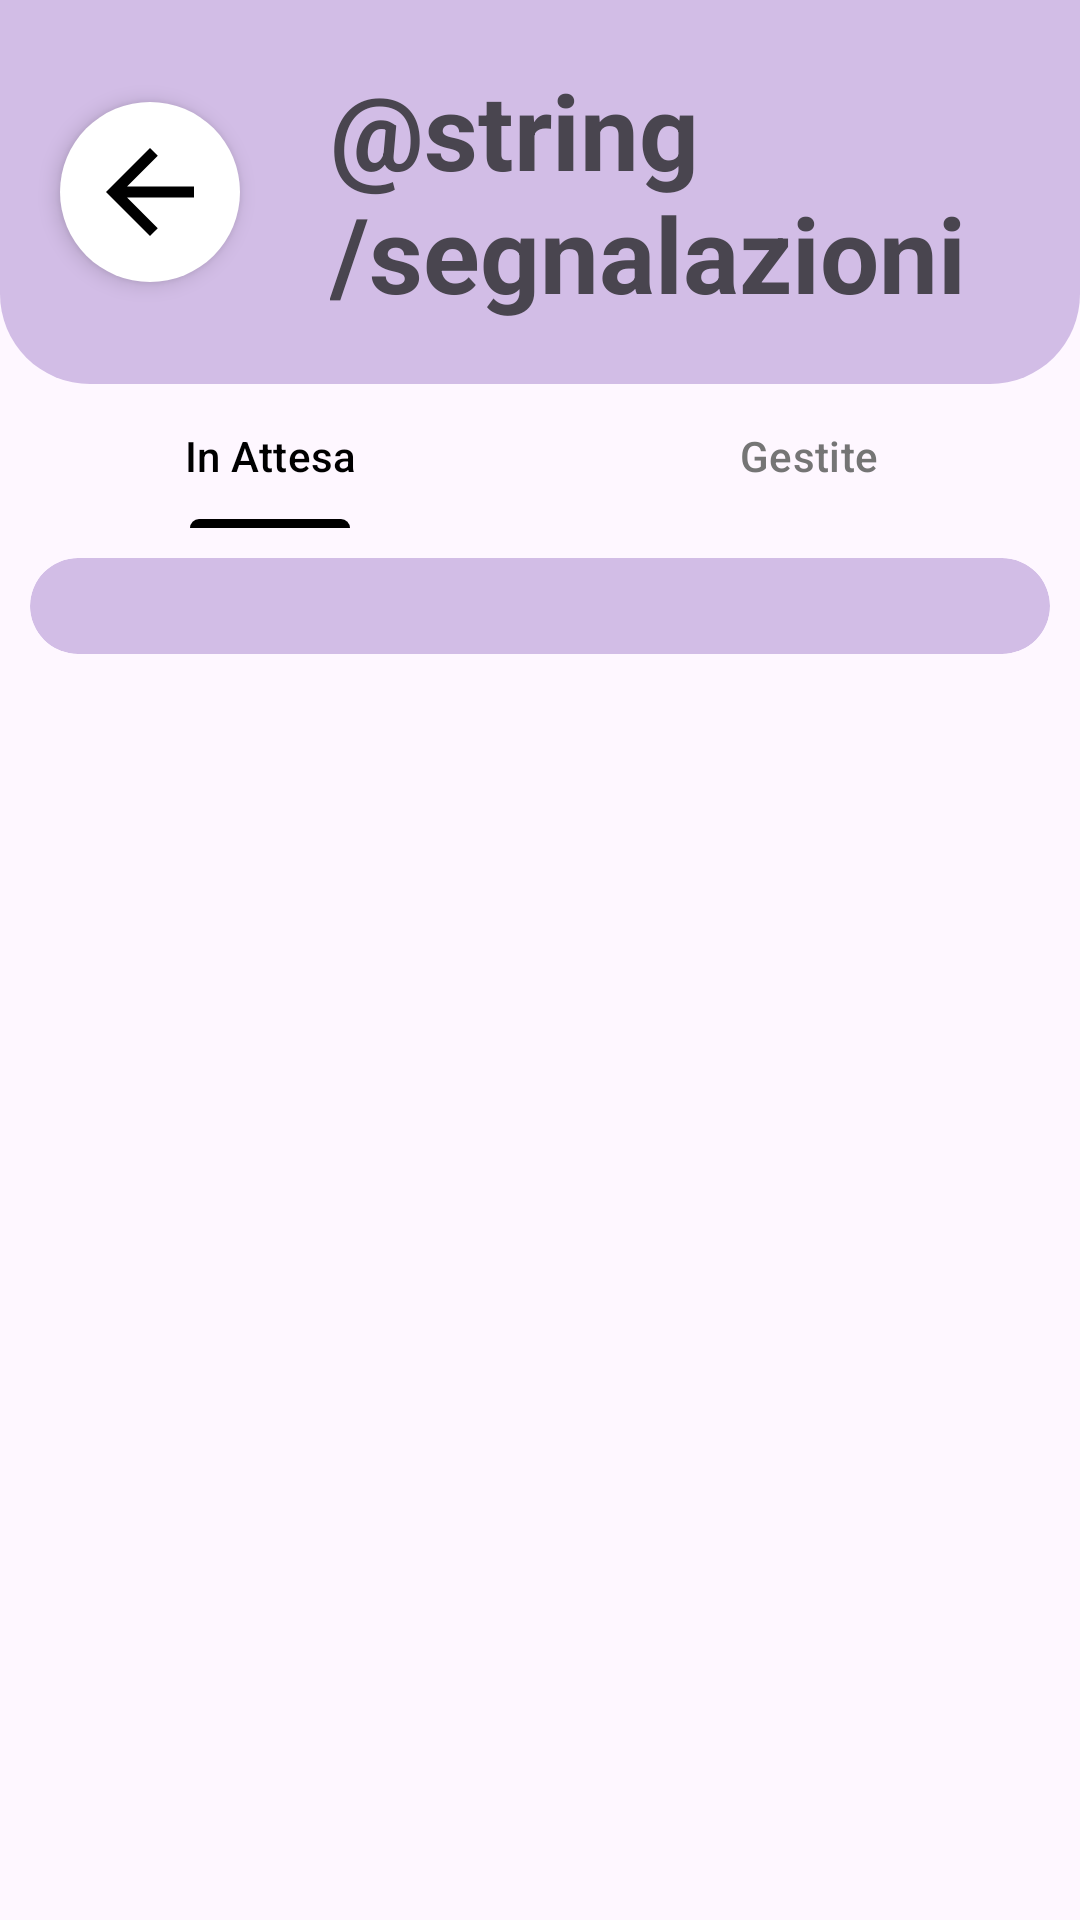

Named icons in this screenshot (1080*1920) and their centers, point (x, y):
goback: point (150, 192)
